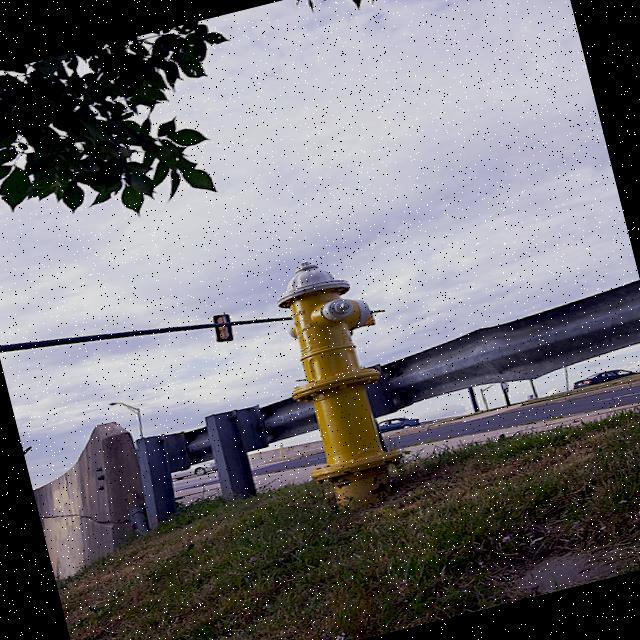fire_hydrant: (259, 246, 417, 515)
